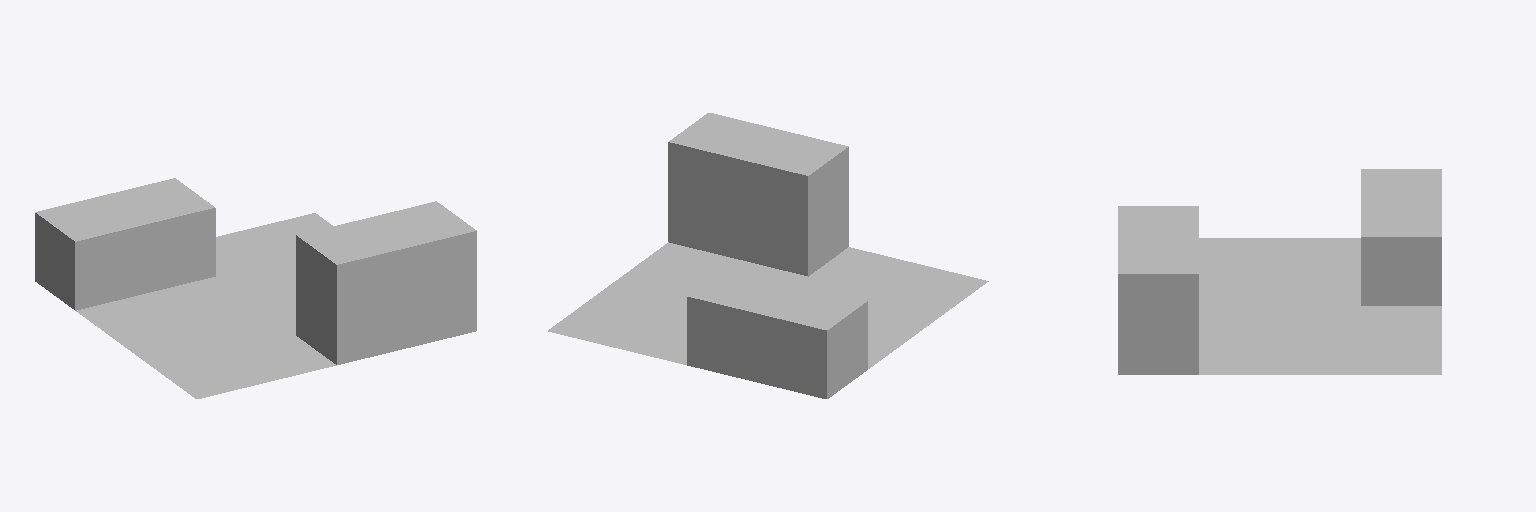
File: fore.obj
3 views of the same model, side by side, from view 1: azimuth 30°, elevation 25°; view 2: azimuth 150°, elevation 25°; view 3: azimuth 270°, elevation 25° (orthographic).
Parts seen in each view (by area): view 1: Plane; view 2: Plane; view 3: Plane.
Part boxes in pixels (bbox=[...]): Plane: bbox=[35, 178, 476, 398]; Plane: bbox=[548, 113, 988, 398]; Plane: bbox=[1118, 169, 1441, 374].
Size of the model in its own units: 10 by 3.42 by 10.